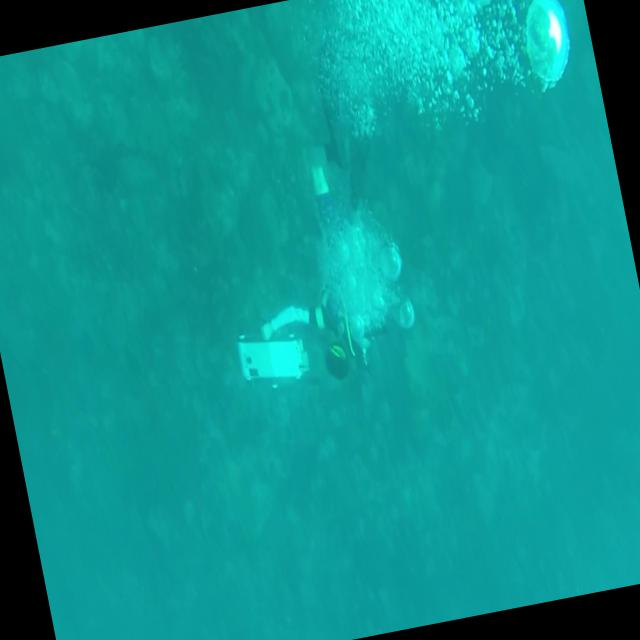human: (219, 90, 426, 396)
